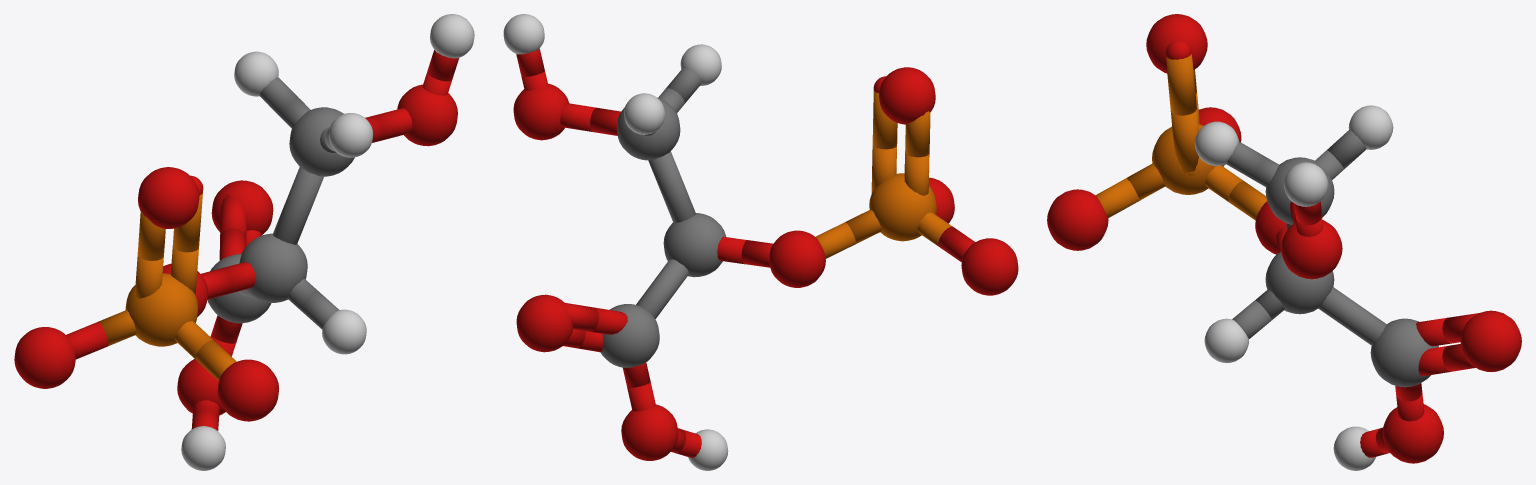
File: 2_phosphoglycerate.obj
The picture shows the model from 3 angles, left to right: view 1: azimuth 30°, elevation 25°; view 2: azimuth 150°, elevation 25°; view 3: azimuth 270°, elevation 25°; orthographic projection. The views are drawn at different scales.
Parts seen in each view (by area): view 1: ShapeSphere_ShapeSphere.039, ShapeSphere.008_ShapeSphere.041, ShapeSphere.006_ShapeSphere.040, ShapeSphere.005_ShapeSphere.040, ShapeSphere.007_ShapeSphere.040, ShapeSphere.009_ShapeSphere.041, ShapeSphere.002_ShapeSphere.040, ShapeCylinder.004_ShapeCylinder.048, ShapeSphere.004_ShapeSphere.040, ShapeSphere.015_ShapeSphere.042, ShapeSphere.010_ShapeSphere.041, ShapeSphere.013_ShapeSphere.042 (+22 smaller); view 2: ShapeSphere_ShapeSphere.039, ShapeSphere.008_ShapeSphere.041, ShapeSphere.005_ShapeSphere.040, ShapeSphere.001_ShapeSphere.040, ShapeSphere.010_ShapeSphere.041, ShapeSphere.007_ShapeSphere.040, ShapeSphere.004_ShapeSphere.040, ShapeSphere.003_ShapeSphere.040, ShapeSphere.002_ShapeSphere.040, ShapeSphere.009_ShapeSphere.041, ShapeCylinder.004_ShapeCylinder.048, ShapeCylinder.003_ShapeCylinder.047 (+23 smaller); view 3: ShapeSphere.004_ShapeSphere.040, ShapeSphere.010_ShapeSphere.041, ShapeSphere.006_ShapeSphere.040, ShapeSphere.003_ShapeSphere.040, ShapeSphere.002_ShapeSphere.040, ShapeSphere.008_ShapeSphere.041, ShapeSphere.007_ShapeSphere.040, ShapeSphere_ShapeSphere.039, ShapeCylinder.003_ShapeCylinder.047, ShapeSphere.014_ShapeSphere.042, ShapeSphere.009_ShapeSphere.041, Shape.012_ShapeCylinder.055 (+20 smaller).
Part boxes in pixels (bbox=[...]): ShapeSphere_ShapeSphere.039: bbox=[125, 273, 198, 346]; ShapeSphere.008_ShapeSphere.041: bbox=[239, 233, 307, 302]; ShapeSphere.006_ShapeSphere.040: bbox=[217, 359, 279, 421]; ShapeSphere.005_ShapeSphere.040: bbox=[14, 327, 75, 388]; ShapeSphere.007_ShapeSphere.040: bbox=[138, 167, 199, 228]; ShapeSphere.009_ShapeSphere.041: bbox=[289, 107, 354, 176]; ShapeSphere.002_ShapeSphere.040: bbox=[397, 84, 457, 146]; ShapeCylinder.004_ShapeCylinder.048: bbox=[272, 167, 323, 244]; ShapeSphere.004_ShapeSphere.040: bbox=[211, 180, 273, 235]; ShapeSphere.015_ShapeSphere.042: bbox=[181, 426, 225, 470]; ShapeSphere.010_ShapeSphere.041: bbox=[207, 254, 271, 323]; ShapeSphere.013_ShapeSphere.042: bbox=[328, 113, 373, 157]; ShapeSphere_ShapeSphere.039: bbox=[869, 173, 936, 241]; ShapeSphere.008_ShapeSphere.041: bbox=[663, 213, 725, 277]; ShapeSphere.005_ShapeSphere.040: bbox=[961, 238, 1018, 295]; ShapeSphere.001_ShapeSphere.040: bbox=[769, 230, 825, 287]; ShapeSphere.010_ShapeSphere.041: bbox=[600, 304, 659, 367]; ShapeSphere.007_ShapeSphere.040: bbox=[879, 67, 935, 124]; ShapeSphere.004_ShapeSphere.040: bbox=[516, 294, 573, 352]; ShapeSphere.003_ShapeSphere.040: bbox=[621, 404, 678, 460]; ShapeSphere.002_ShapeSphere.040: bbox=[513, 83, 568, 140]; ShapeSphere.009_ShapeSphere.041: bbox=[617, 97, 680, 160]; ShapeCylinder.004_ShapeCylinder.048: bbox=[648, 151, 695, 223]; ShapeCylinder.003_ShapeCylinder.047: bbox=[636, 259, 688, 318]; ShapeSphere.004_ShapeSphere.040: bbox=[1460, 310, 1521, 371]; ShapeSphere.010_ShapeSphere.041: bbox=[1370, 318, 1438, 387]; ShapeSphere.006_ShapeSphere.040: bbox=[1047, 189, 1108, 250]; ShapeSphere.003_ShapeSphere.040: bbox=[1382, 404, 1443, 463]; ShapeSphere.002_ShapeSphere.040: bbox=[1281, 220, 1342, 279]; ShapeSphere.008_ShapeSphere.041: bbox=[1265, 251, 1334, 314]; ShapeSphere.007_ShapeSphere.040: bbox=[1146, 14, 1207, 73]; ShapeSphere_ShapeSphere.039: bbox=[1152, 124, 1223, 194]; ShapeCylinder.003_ShapeCylinder.047: bbox=[1318, 287, 1386, 345]; ShapeSphere.014_ShapeSphere.042: bbox=[1283, 162, 1328, 206]; ShapeSphere.009_ShapeSphere.041: bbox=[1265, 157, 1334, 224]; Shape.012_ShapeCylinder.055: bbox=[1166, 54, 1196, 115].
Bounding box in the file's own units: 6.51 × 5.17 × 5.39.
